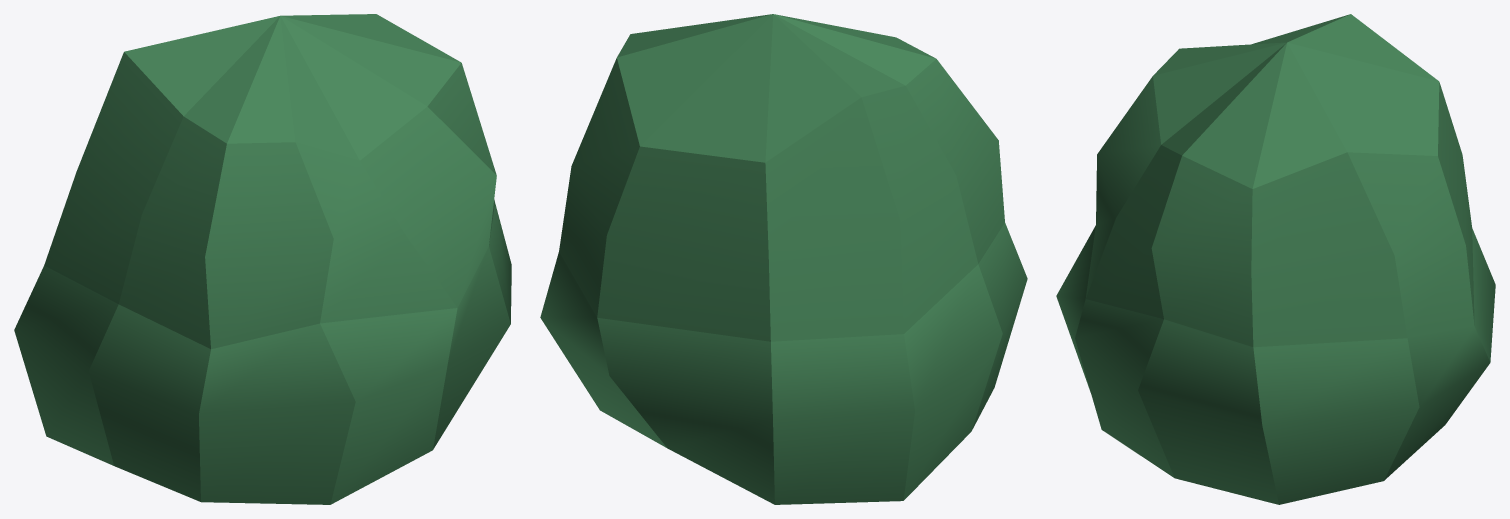
File: tree03.fbx
3 views of the same model, side by side, from view 1: azimuth 30°, elevation 25°; view 2: azimuth 150°, elevation 25°; view 3: azimuth 270°, elevation 25° (orthographic). The views are drawn at different scales.
Visible parts, largest first — view 1: group2; view 2: group2; view 3: group2.
Boxes of the visible parts, x1,y1,x2,y2 form: group2: [14, 14, 511, 504]; group2: [540, 14, 1027, 504]; group2: [1056, 14, 1495, 504].
Bounding box in the file's own units: 26.11 × 24.56 × 24.08.
